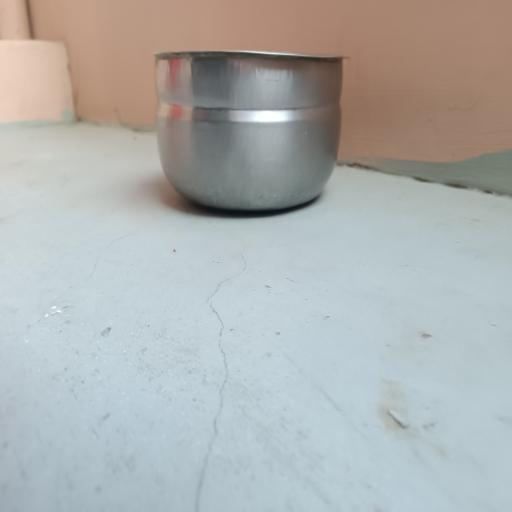vessel: (155, 52, 342, 210)
